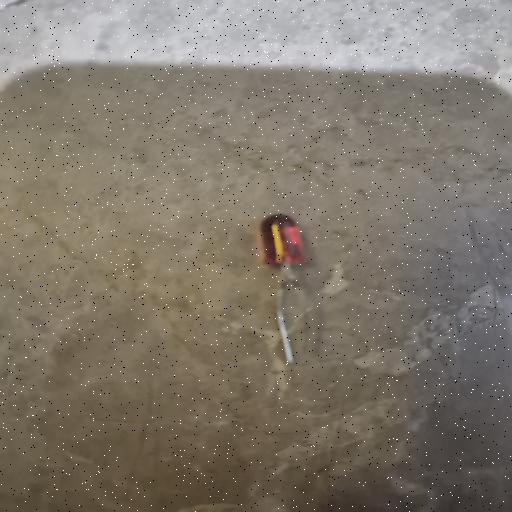led-diode: (259, 214, 305, 364)
